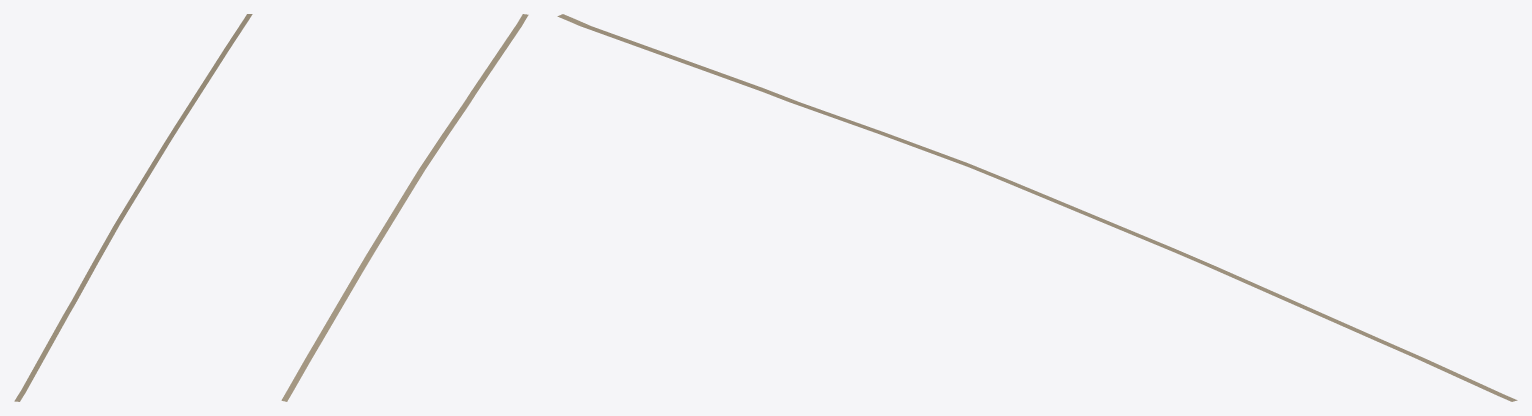
File: farm_3_-3_track.glb
3 views of the same model, side by side, from view 1: azimuth 30°, elevation 25°; view 2: azimuth 210°, elevation 25°; view 3: azimuth 270°, elevation 25° (orthographic). The views are drawn at different scales.
Visible parts, largest first — view 1: geometry_0; view 2: geometry_0; view 3: geometry_0.
Part boxes in pixels (left/top/right/bottom): geometry_0: left=14, top=14, right=252, bottom=401; geometry_0: left=281, top=14, right=528, bottom=401; geometry_0: left=557, top=14, right=1517, bottom=401.
Bounding box in the file's own units: 369 × 9 × 375.
